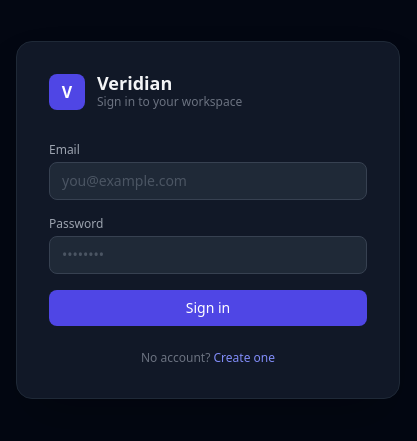
Scenario: LoginPage › shows API error message on failed login
Type "bad@example.com" into the field labelled "Email" at [208, 181], box [49,162,367,200]
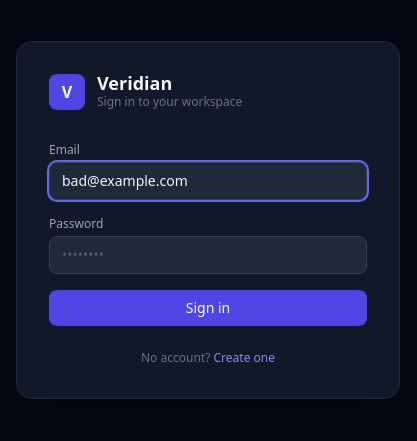
Type "wrongpassword" into the password field labelled "Password" at [208, 255], box [49,236,367,274]
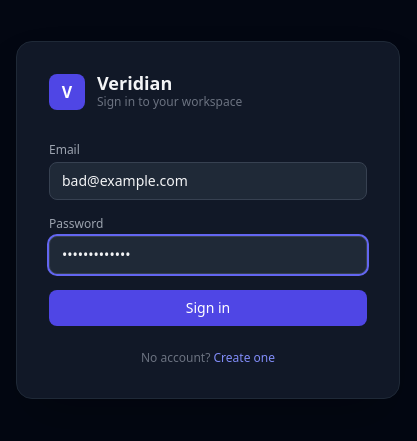
Click the button "Sign in" at [208, 308], box [49,290,367,326]
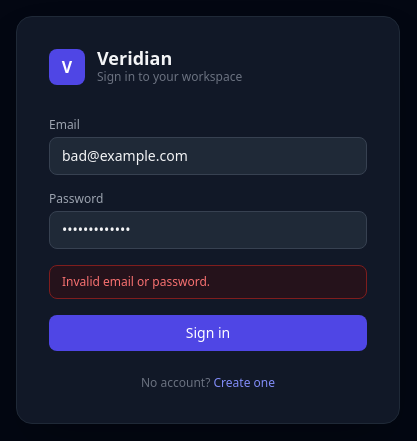
Now the text "Invalid email or password." is shown, box [49,265,367,299]
